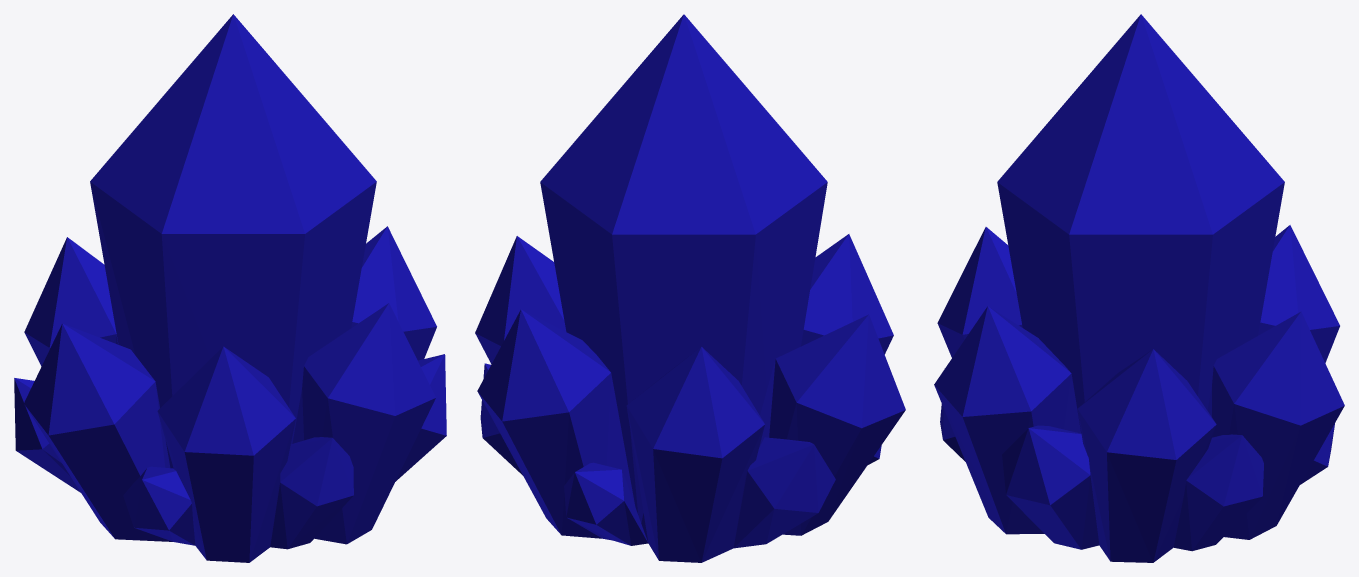
Rendered from crystal_blue.obj.
3 views of the same model, side by side, from view 1: azimuth 30°, elevation 25°; view 2: azimuth 150°, elevation 25°; view 3: azimuth 270°, elevation 25° (orthographic).
Parts seen in each view (by area): view 1: Crystal_Cube; view 2: Crystal_Cube; view 3: Crystal_Cube.
Part boxes in pixels (<box>): Crystal_Cube: <box>14,14,446,562</box>; Crystal_Cube: <box>475,14,905,562</box>; Crystal_Cube: <box>934,14,1344,562</box>.
Bounding box in the file's own units: 0.8345 × 0.9795 × 0.7515.
